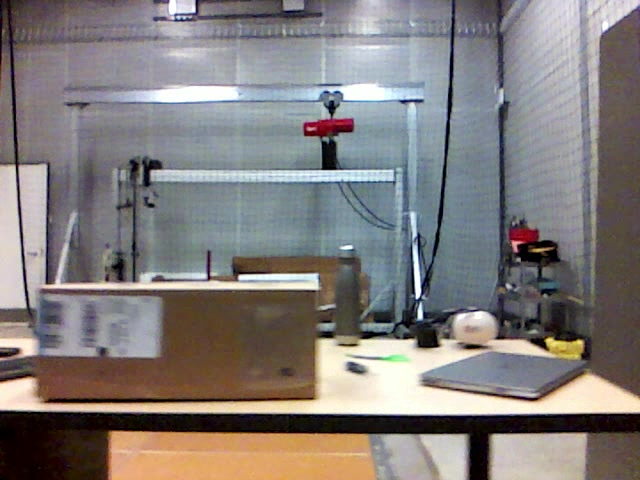box: (37, 285, 316, 399)
